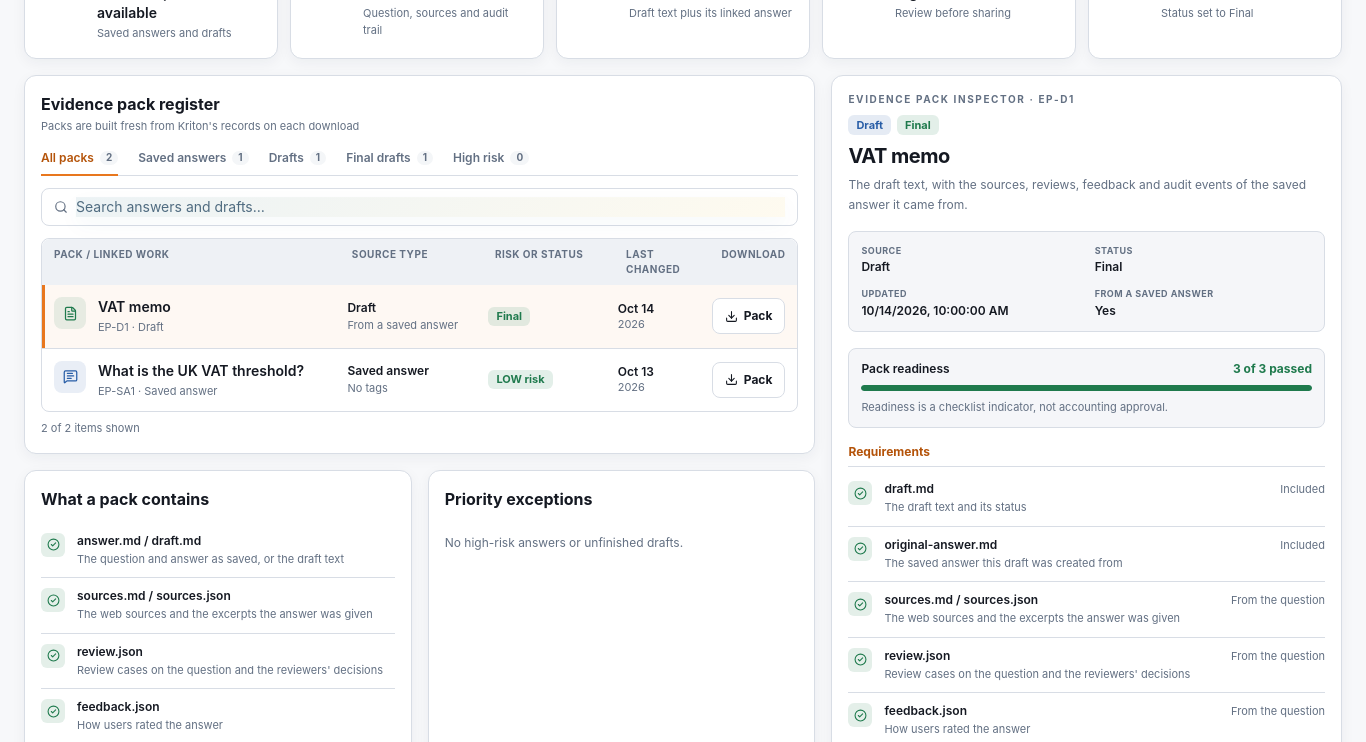
Evidence Packs › lists saved answers and drafts, newest first, and downloads a pack
(page scrolled)
Click the button with aria-label "Download evidence pack for" at [749, 380], box [712,362,785,398]
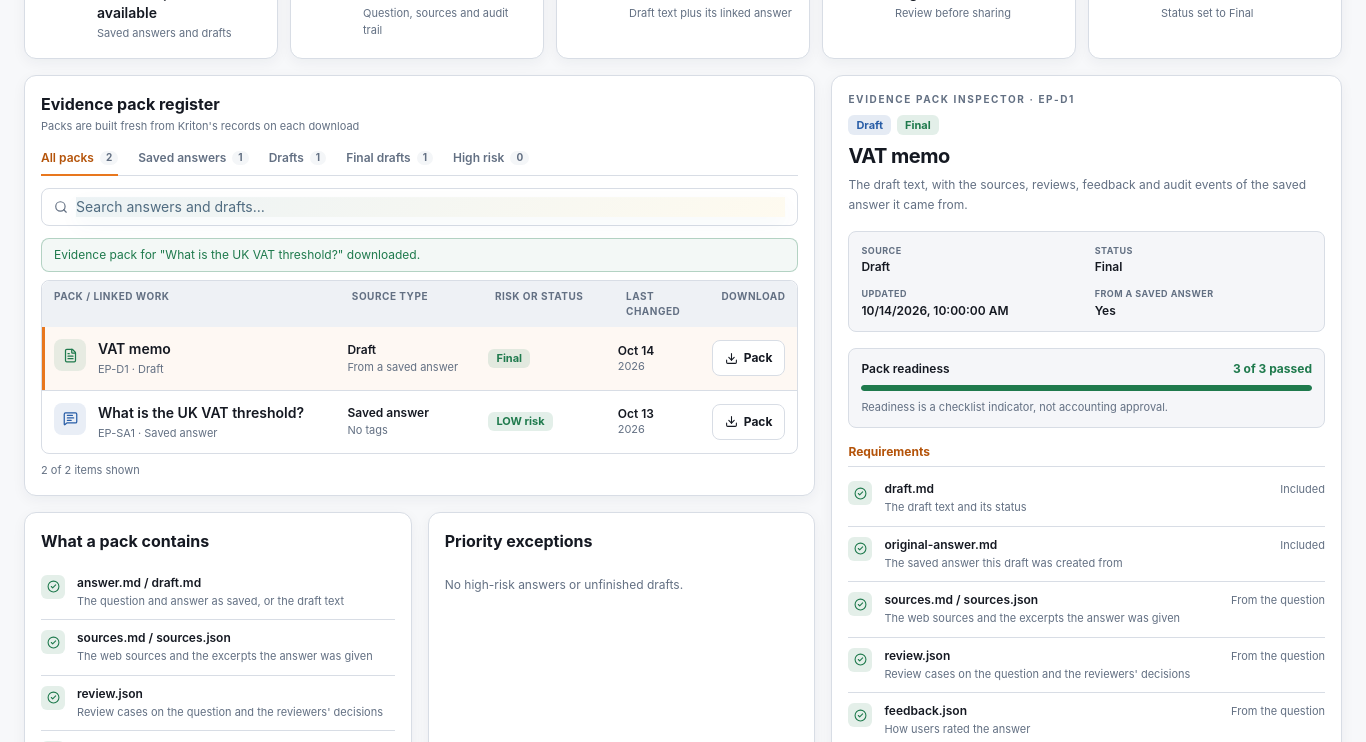
Result: the text "downloaded" is shown at [54,247,420,262]
